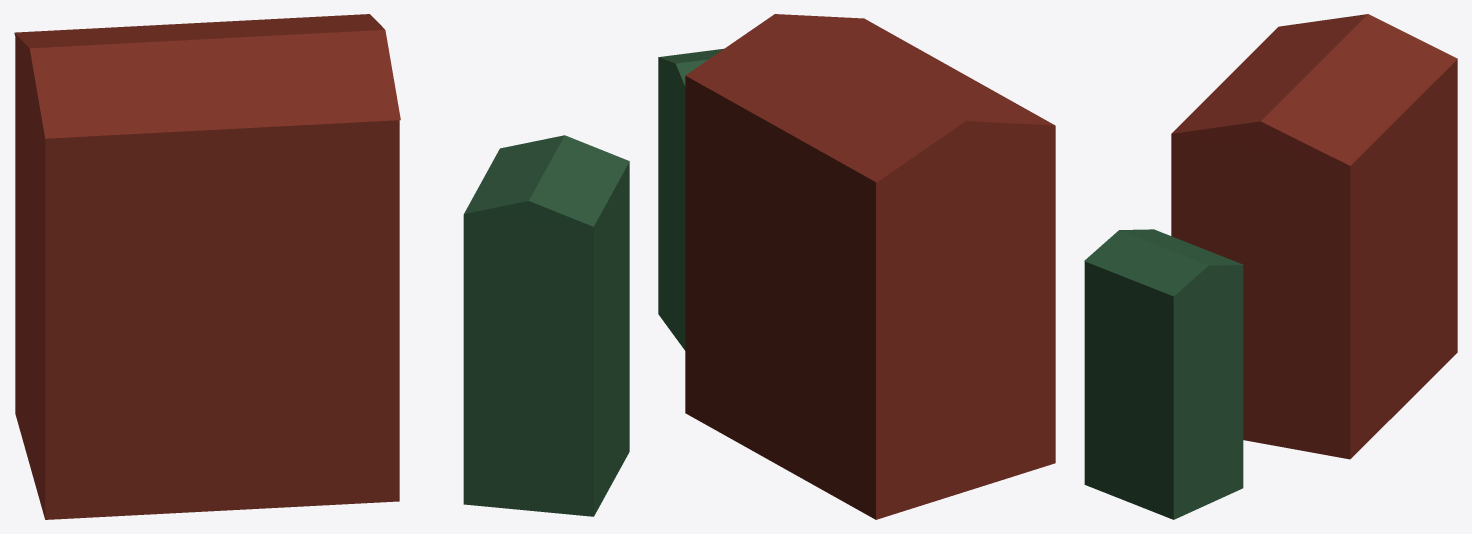
File: near-15-27351-14877.a533402f.glb
The picture shows the model from 3 angles, left to right: view 1: azimuth 30°, elevation 25°; view 2: azimuth 150°, elevation 25°; view 3: azimuth 270°, elevation 25°; orthographic projection. The views are drawn at different scales.
Bounding box in the file's own units: 24.43 × 19.26 × 19.9.
